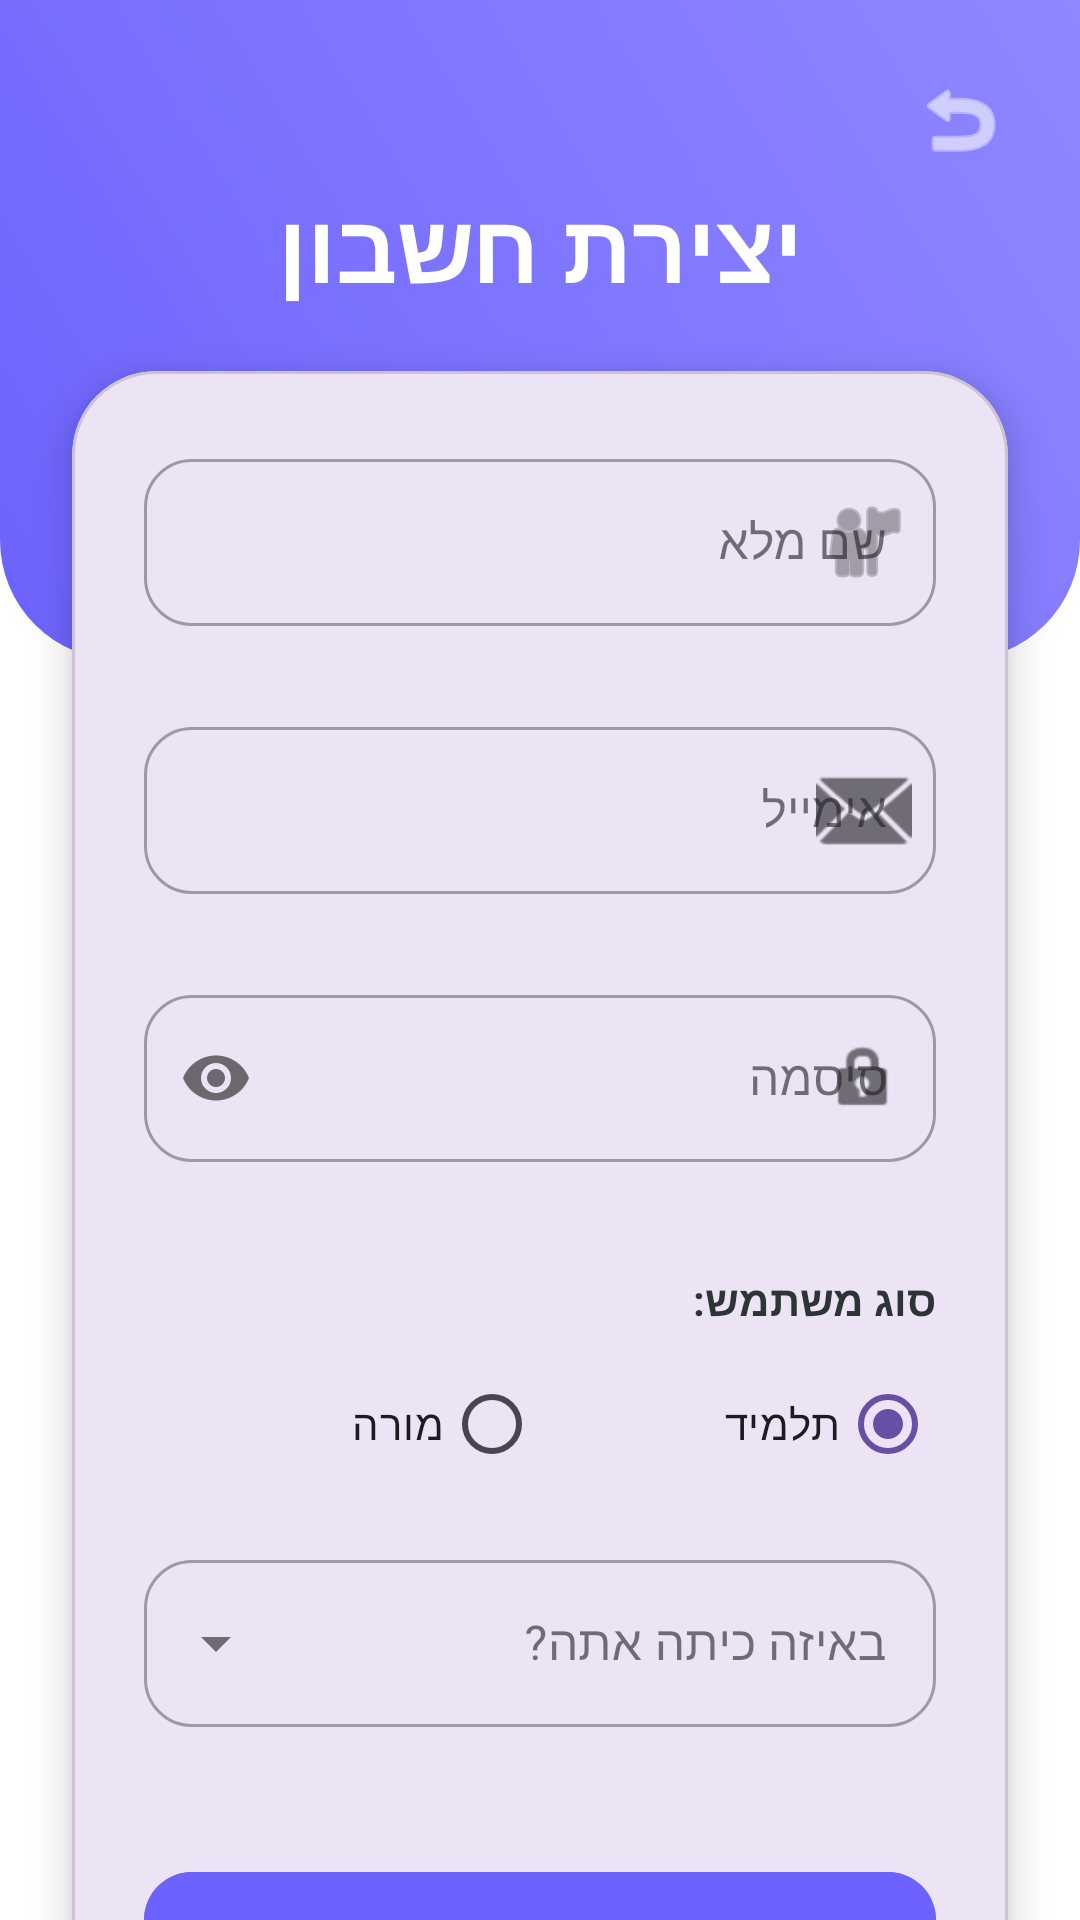

Point at icon controls on the screen. Image size 1080x1920, points as point (x, y).
revert: point (961, 121)
